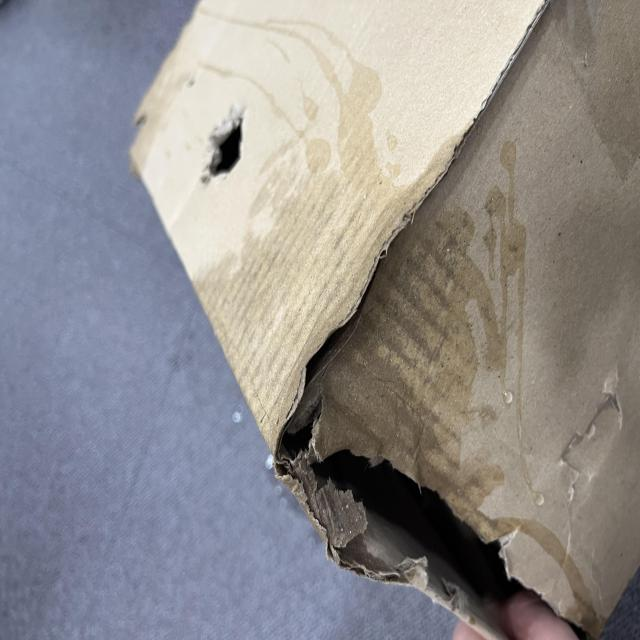wet: (147, 307, 358, 640)
